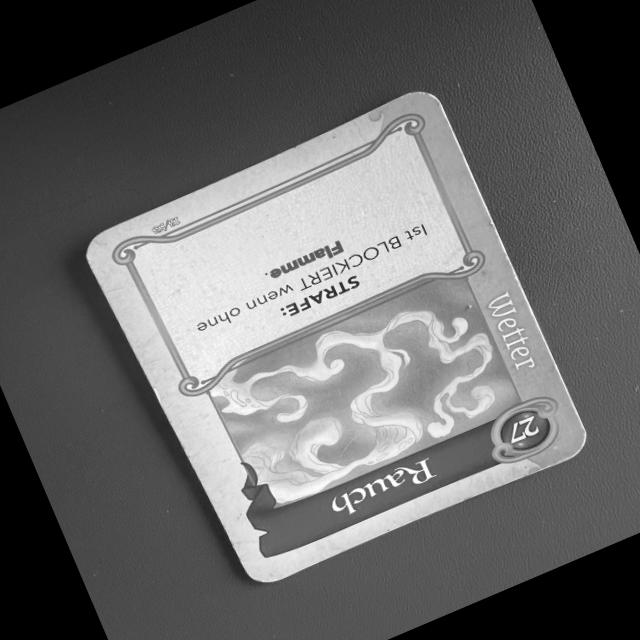Smoke: (64, 69, 606, 602)
